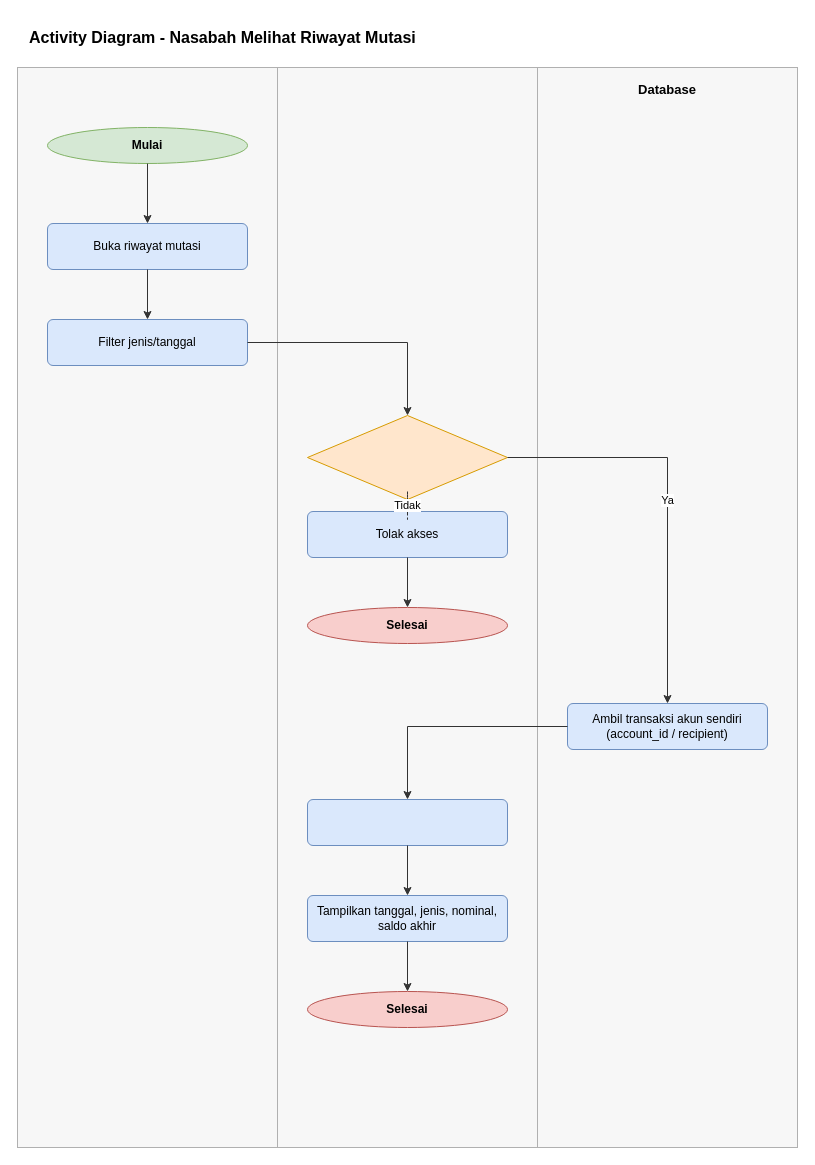
Some shapes in this 815 by 1165 pixel diagram are drawn without their labels. The box of each missing label's shape, as (x1, y1, x2, y2) in pixels:
Hanya data sendiri?: (306, 414, 508, 500)
Nasabah: (16, 66, 278, 1148)
Paginate hasil: (306, 798, 508, 846)
Sistem: (276, 66, 538, 1148)
